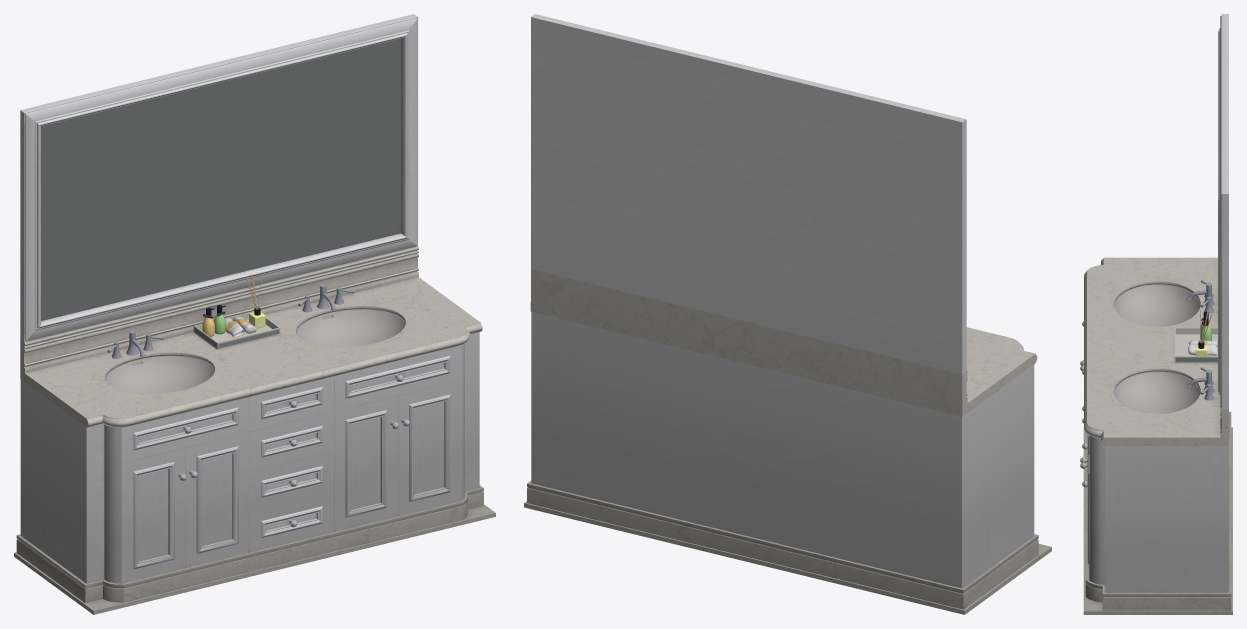
Rendered from washbasin.fbx.
3 views of the same model, side by side, from view 1: azimuth 30°, elevation 25°; view 2: azimuth 150°, elevation 25°; view 3: azimuth 270°, elevation 25° (orthographic). The views are drawn at different scales.
Parts seen in each view (by area): view 1: Object_9, Object_6; view 2: Object_9; view 3: Object_9, Object_6.
Part boxes in pixels (x1=…): Object_9: x1=14, y1=14, x2=495, y2=614; Object_6: x1=202, y1=308, x2=265, y2=336; Object_9: x1=524, y1=14, x2=1051, y2=614; Object_9: x1=1080, y1=14, x2=1232, y2=614; Object_6: x1=1195, y1=320, x2=1211, y2=356.
Bounding box in the file's own units: 18058 × 19179 × 6335.
